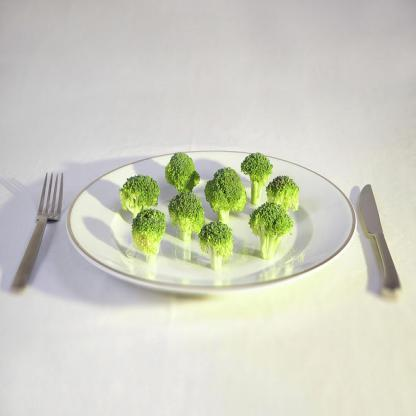broccoli: (117, 150, 298, 268)
